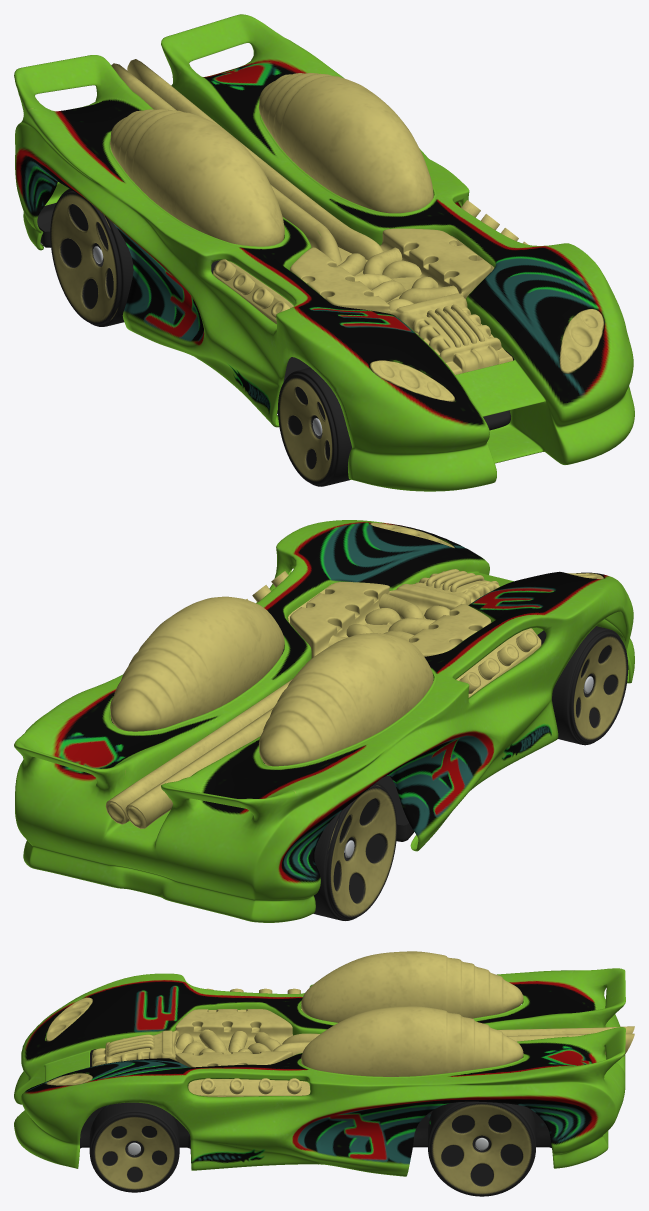
File: hot_wheels_-_splittin_image_2.glb
The picture shows the model from 3 angles, top to bottom: view 1: azimuth 30°, elevation 25°; view 2: azimuth 150°, elevation 25°; view 3: azimuth 270°, elevation 25°; orthographic projection. The views are drawn at different scales.
Parts seen in each view (by area): view 1: Cube; view 2: Cube; view 3: Cube.
Part boxes in pixels (<box>): Cube: <box>14,14,634,491</box>; Cube: <box>14,520,634,922</box>; Cube: <box>14,951,634,1196</box>.
Size of the model in its own units: 105 by 71.2 by 244.
1 material, 1 textured.
